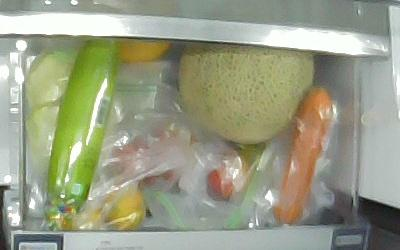cabbage_vinyl: (24, 49, 117, 169)
carrot_vinyl: (273, 87, 333, 223)
melon: (178, 43, 314, 145)
pear: (117, 40, 172, 61)
prune_vinyl: (152, 131, 193, 179), (115, 143, 157, 186)
tangerine_vinyl: (106, 188, 142, 231), (66, 207, 103, 230)
tomato_vinyl: (206, 163, 242, 202), (231, 142, 267, 175)
zucchini: (45, 40, 119, 231)
